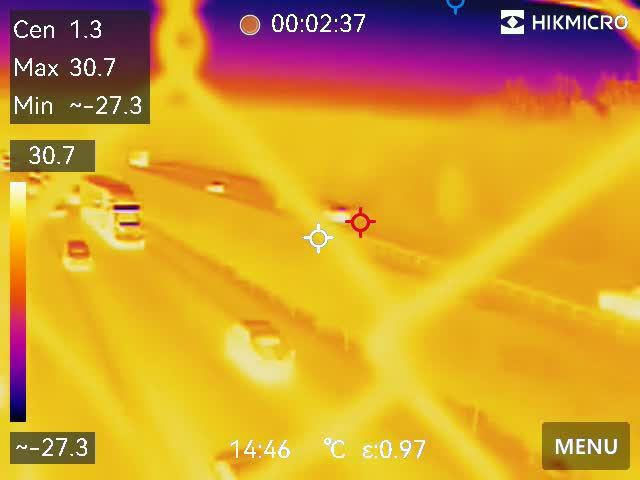heavyTruck: (78, 168, 150, 251)
